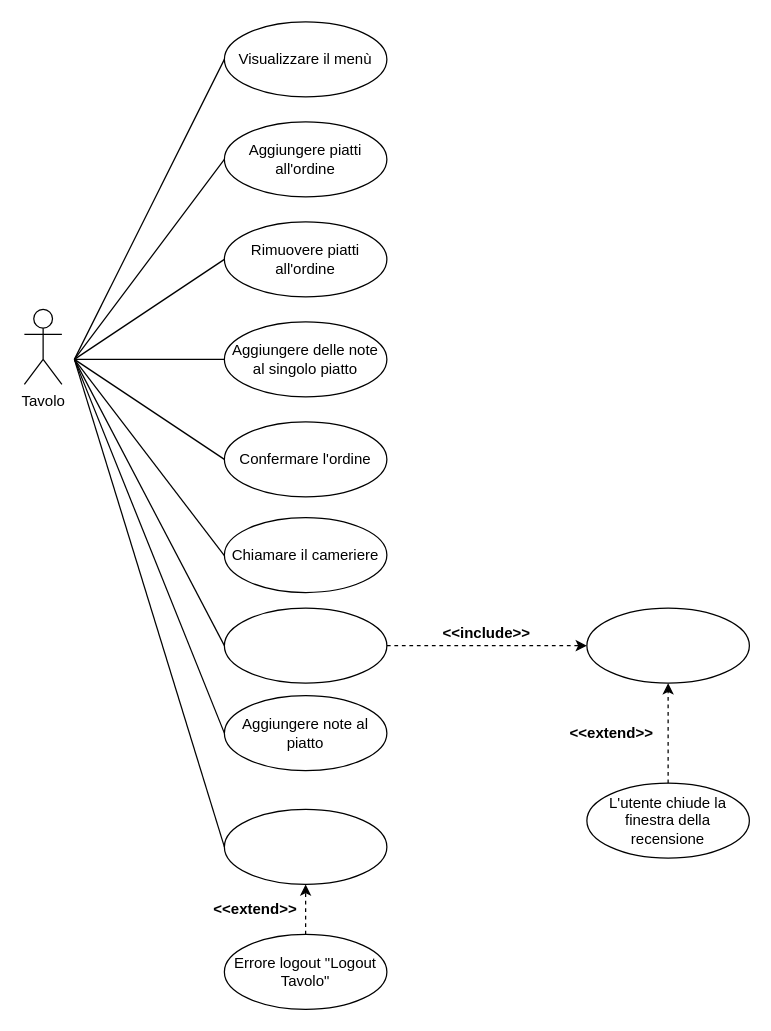
Image size: 771x1031. Some labels were removed from this diagram. Here are the shapes that lost their labels. From the top down, the centre of each, then its label:
the point at 305,645: Chiamare il cameriere per il conto
the point at 667,645: Lasciare una recensione
the point at 305,846: Logout Tavolo
